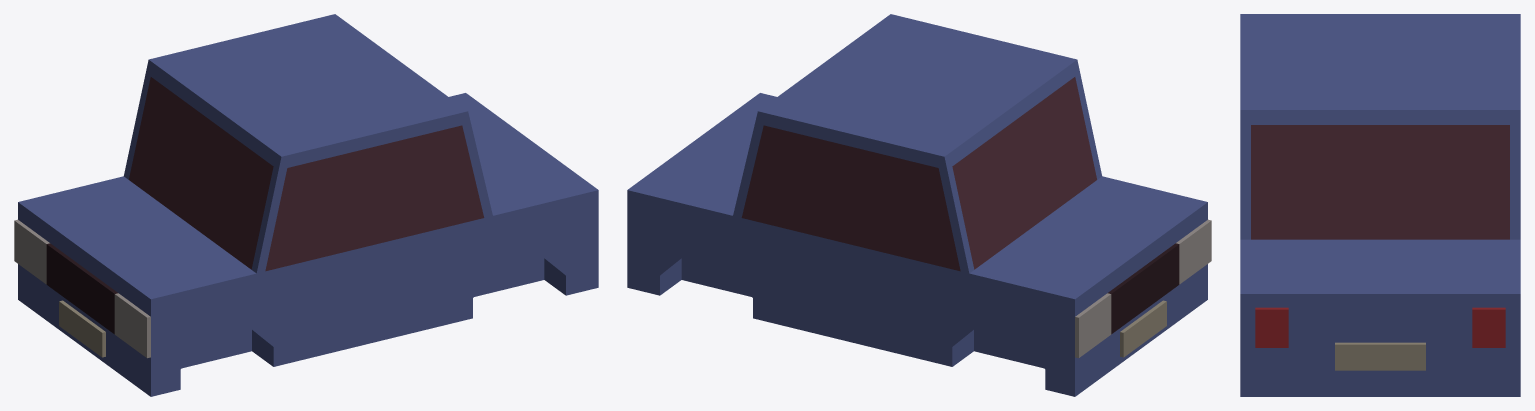
The model's file is Sedan_Blue.fbx.
3 views of the same model, side by side, from view 1: azimuth 30°, elevation 25°; view 2: azimuth 150°, elevation 25°; view 3: azimuth 270°, elevation 25° (orthographic). The views are drawn at different scales.
Parts seen in each view (by area): view 1: Sedan_Blue, Sedan_Lights; view 2: Sedan_Blue, Sedan_Lights; view 3: Sedan_Blue, Sedan_Lights.
Boxes of the visible parts, bbox=[...] form: Sedan_Blue: bbox=[18, 14, 598, 396]; Sedan_Lights: bbox=[14, 219, 150, 358]; Sedan_Blue: bbox=[627, 14, 1207, 396]; Sedan_Lights: bbox=[1075, 219, 1211, 358]; Sedan_Blue: bbox=[1240, 14, 1520, 396]; Sedan_Lights: bbox=[1255, 307, 1505, 347].
Size of the model in its own units: 3.66 by 1.6 by 1.85.
